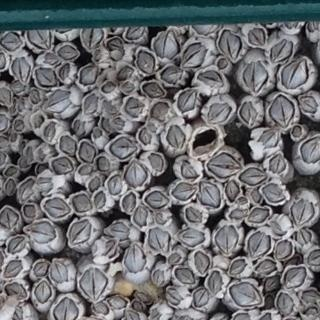Barnacle: (78, 267, 108, 302), (231, 281, 264, 307), (208, 153, 242, 178), (280, 58, 309, 87), (268, 94, 293, 127), (153, 30, 180, 59), (243, 61, 267, 93), (12, 55, 32, 93), (182, 41, 207, 70), (27, 220, 57, 244), (292, 198, 317, 226), (124, 159, 149, 187), (219, 30, 241, 61), (125, 244, 146, 274), (68, 220, 91, 246), (216, 225, 238, 252), (249, 231, 269, 260), (53, 297, 78, 320), (207, 102, 233, 124), (179, 227, 206, 248), (110, 137, 137, 158), (27, 28, 52, 50), (199, 181, 220, 207), (48, 157, 75, 177), (300, 136, 320, 163), (269, 39, 292, 62), (148, 227, 168, 253), (44, 198, 71, 217), (49, 90, 71, 113), (82, 25, 103, 49), (144, 190, 169, 210), (197, 69, 223, 88), (0, 31, 22, 53), (136, 51, 155, 76), (107, 220, 129, 241), (263, 181, 284, 203), (36, 67, 58, 88), (34, 279, 52, 304), (166, 123, 184, 148), (125, 98, 146, 119), (283, 267, 305, 287), (258, 129, 280, 149), (240, 169, 267, 185), (178, 90, 197, 112), (161, 66, 183, 85), (240, 101, 256, 127), (172, 182, 195, 200), (6, 236, 27, 255), (5, 282, 27, 300), (0, 208, 19, 228), (268, 156, 287, 176), (173, 267, 194, 285), (59, 135, 77, 156), (57, 44, 79, 61), (208, 270, 223, 294), (194, 251, 209, 275), (276, 239, 294, 259), (51, 260, 68, 281), (255, 259, 276, 276), (72, 195, 93, 212), (277, 293, 293, 315), (134, 206, 149, 229), (4, 260, 23, 278), (193, 288, 210, 308), (80, 142, 97, 162), (300, 94, 317, 114), (80, 66, 97, 86), (249, 25, 266, 45), (125, 24, 145, 41), (186, 205, 203, 224), (151, 101, 168, 120), (143, 82, 163, 98), (121, 192, 136, 213), (107, 175, 122, 196), (266, 274, 282, 293), (181, 162, 197, 181), (38, 173, 53, 193), (33, 261, 51, 277), (102, 240, 118, 258), (148, 153, 164, 171), (85, 92, 98, 114), (228, 260, 247, 275), (20, 181, 35, 200), (226, 182, 240, 202), (229, 207, 250, 220), (167, 288, 183, 305), (294, 229, 310, 246), (250, 209, 270, 222), (73, 119, 86, 139), (270, 220, 285, 237), (116, 66, 133, 81), (107, 39, 124, 54), (45, 122, 59, 140), (12, 304, 27, 320), (94, 191, 106, 211), (102, 101, 120, 114), (301, 289, 318, 302), (43, 53, 60, 66), (0, 87, 11, 107), (136, 291, 150, 306), (107, 296, 126, 307), (153, 268, 164, 287), (98, 157, 110, 174), (308, 250, 320, 266), (139, 128, 151, 144), (59, 63, 71, 79), (113, 117, 126, 131), (95, 302, 108, 315), (23, 205, 36, 218), (103, 82, 116, 95), (79, 165, 94, 176), (102, 117, 111, 135), (0, 115, 9, 133), (89, 177, 101, 190), (307, 20, 319, 33), (33, 114, 44, 128), (301, 306, 316, 316), (168, 253, 180, 265), (281, 21, 297, 30), (155, 214, 168, 225), (290, 125, 301, 138), (122, 82, 135, 93), (251, 189, 261, 203), (5, 181, 14, 196), (26, 146, 34, 162), (0, 136, 9, 150), (30, 90, 39, 104), (147, 121, 158, 132), (17, 99, 27, 111), (93, 128, 102, 141), (93, 50, 102, 63), (152, 309, 162, 320), (14, 120, 24, 131), (4, 167, 16, 176), (0, 53, 7, 67), (131, 302, 141, 311), (19, 159, 28, 169), (18, 142, 26, 152), (37, 150, 44, 161), (236, 198, 245, 206), (219, 60, 226, 69), (0, 153, 5, 165), (11, 133, 17, 141), (51, 121, 52, 122)
